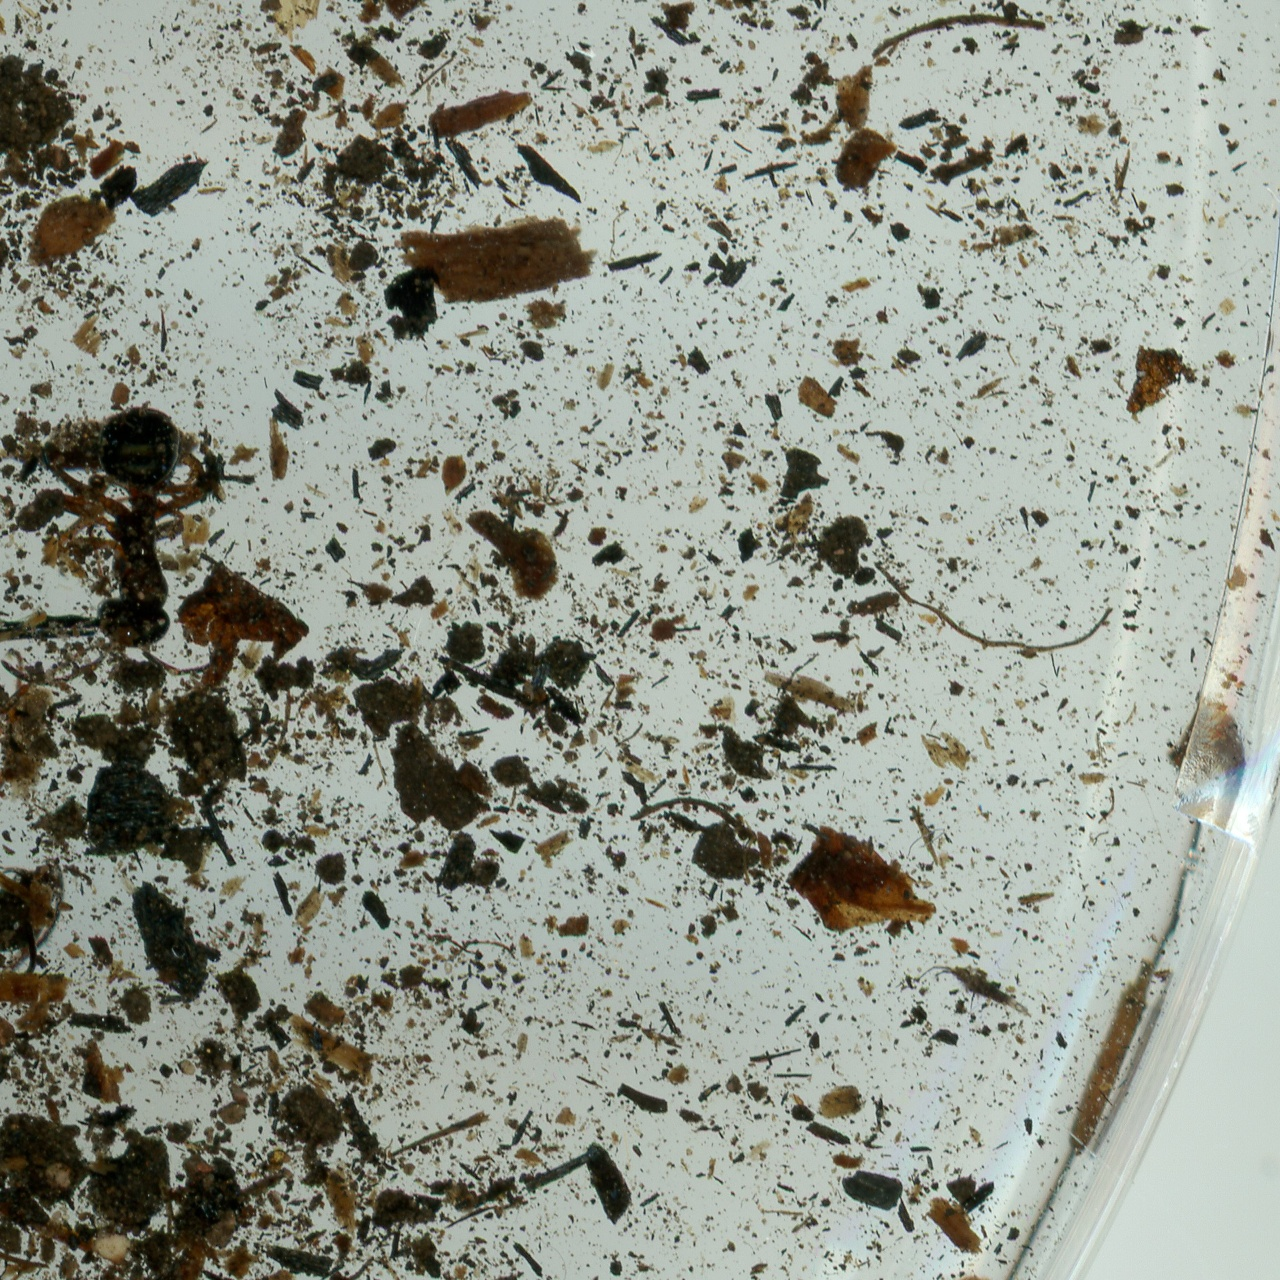arthropod: (915, 945, 1046, 1026)
